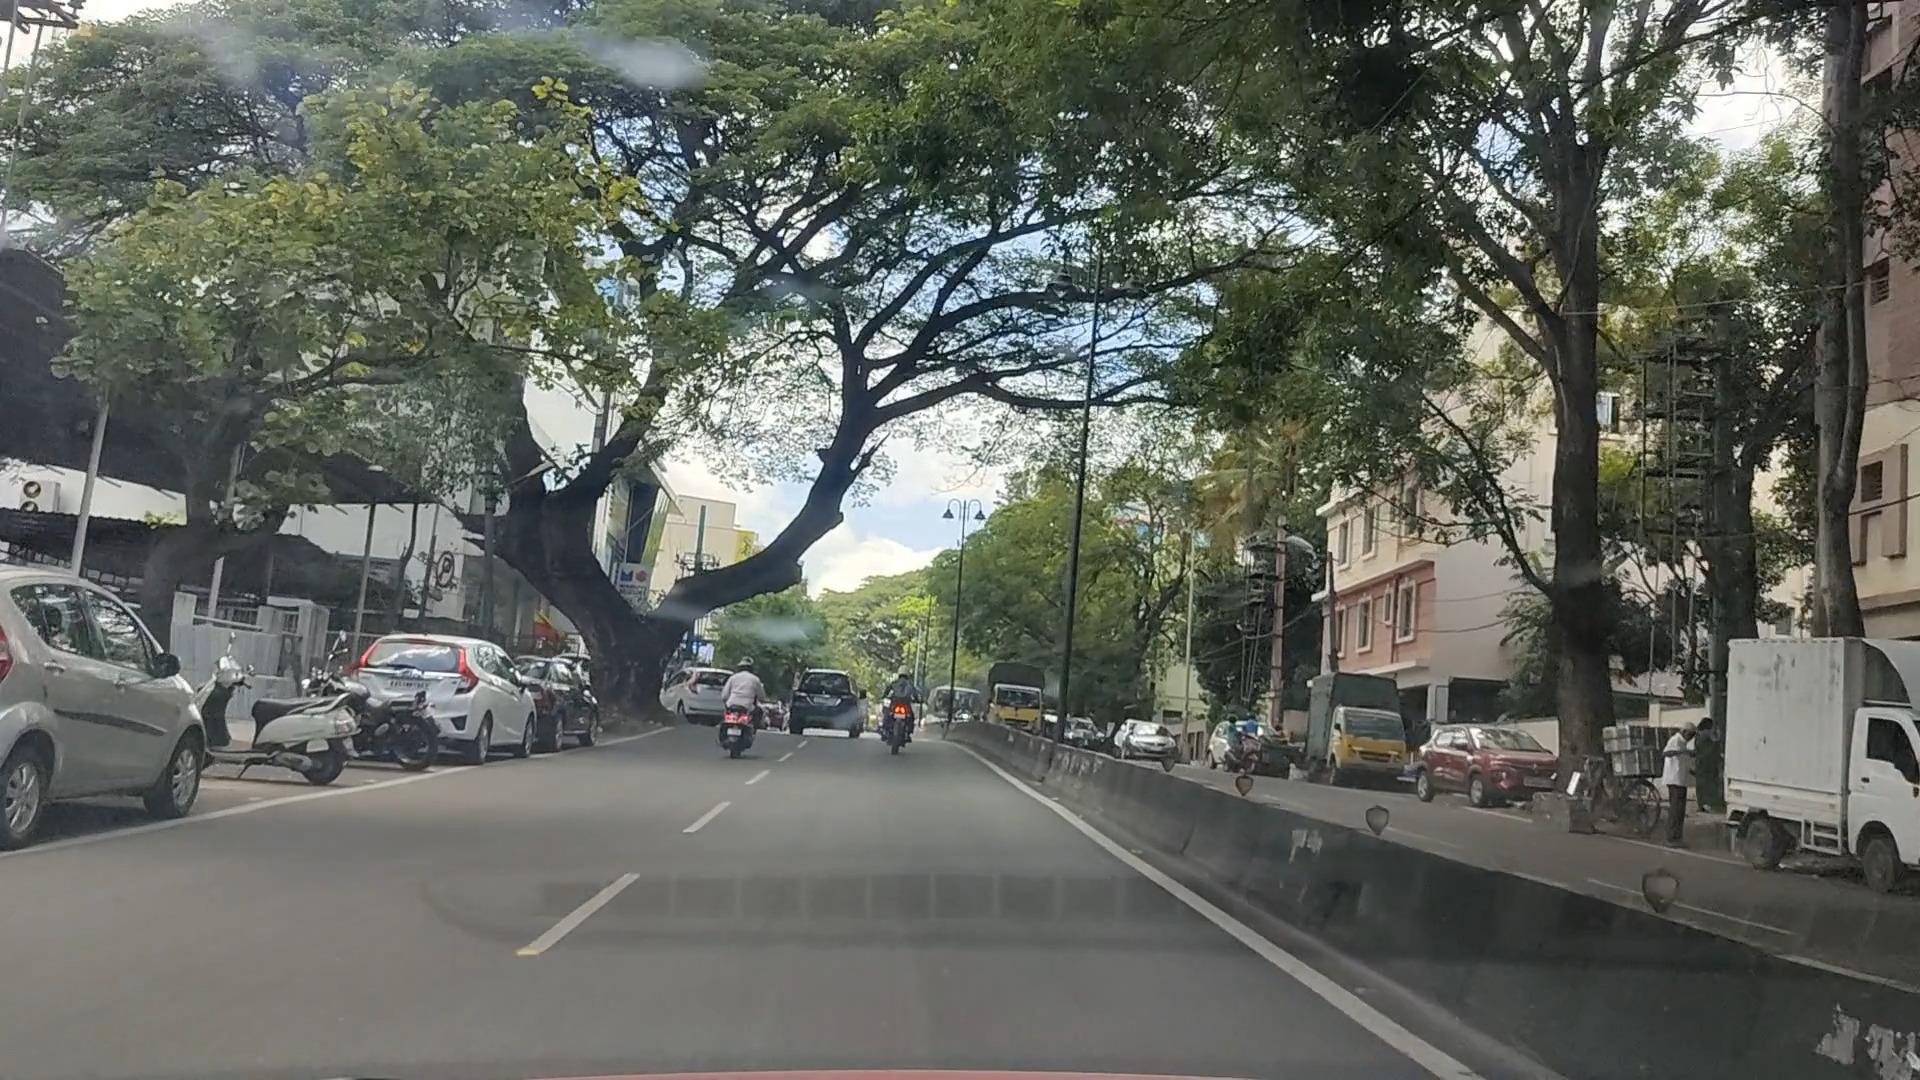LMV: (178, 647, 355, 806)
